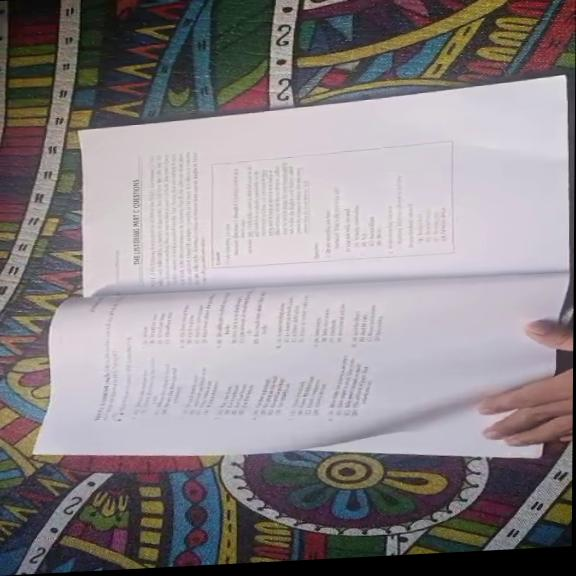Kertas: (39, 65, 575, 311), (80, 75, 570, 294), (35, 272, 570, 457)
